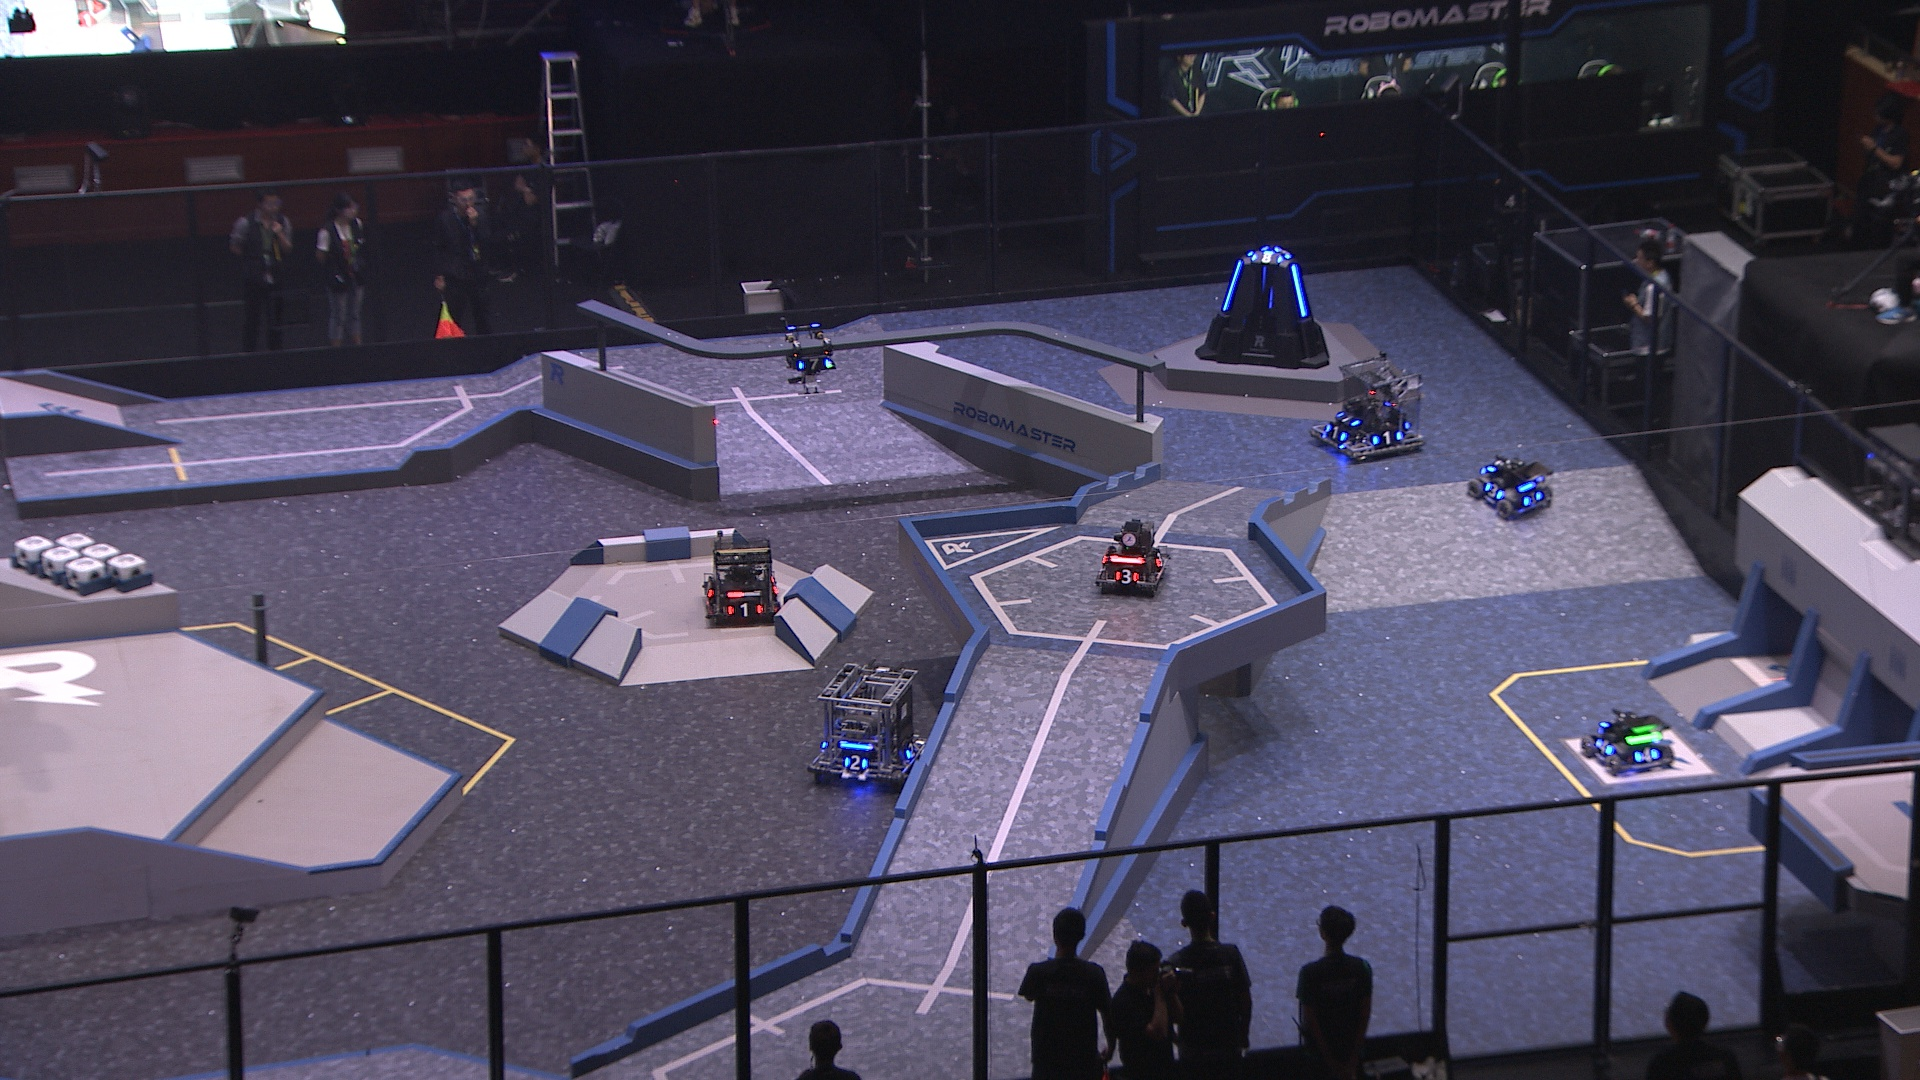armor: (1284, 261, 1309, 322), (1218, 258, 1245, 314), (793, 353, 833, 373), (1247, 247, 1287, 266), (1367, 429, 1404, 448), (723, 603, 764, 618), (1112, 567, 1143, 585), (1633, 745, 1662, 765), (1335, 410, 1364, 429), (844, 752, 869, 773), (1518, 488, 1543, 509), (1594, 733, 1614, 760), (1325, 423, 1346, 446), (1482, 479, 1505, 500), (1482, 456, 1509, 472), (700, 575, 716, 599), (903, 741, 918, 764), (1154, 549, 1171, 567), (1275, 243, 1291, 258)
base: (1193, 243, 1332, 372)
car: (808, 655, 931, 789), (1309, 348, 1429, 465), (698, 524, 787, 629), (1578, 703, 1676, 775), (1092, 518, 1174, 595), (1462, 451, 1552, 520)
watcher: (778, 314, 837, 396)
